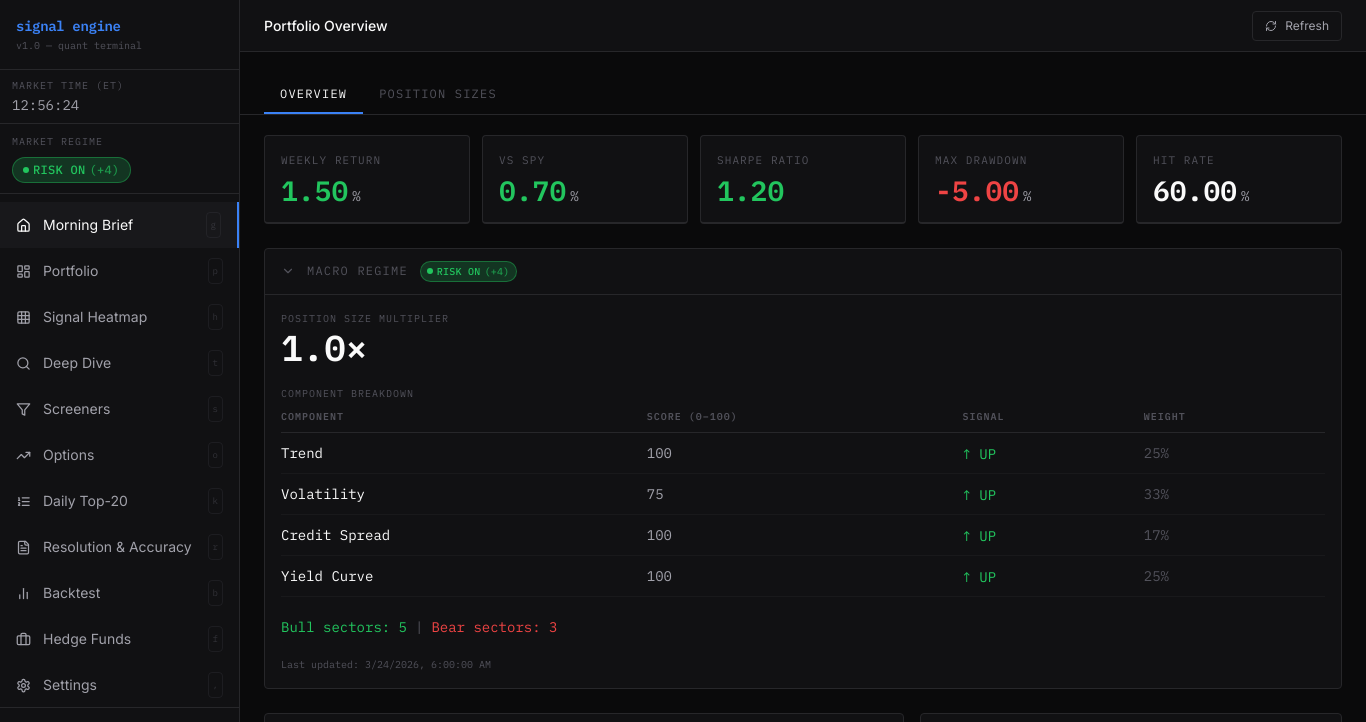
Test: PortfolioPage — Regime Panel › d) Panel collapses and expands on header click
Expected: the element with test id "regime-panel" shows "1.0×", x1=264 y1=248 x2=1342 y2=688
Click the toggle button to collapse
Click the button "Macro Regime RISK ON (+4)" at (357, 270), box x1=265 y1=248 x2=1341 y2=294
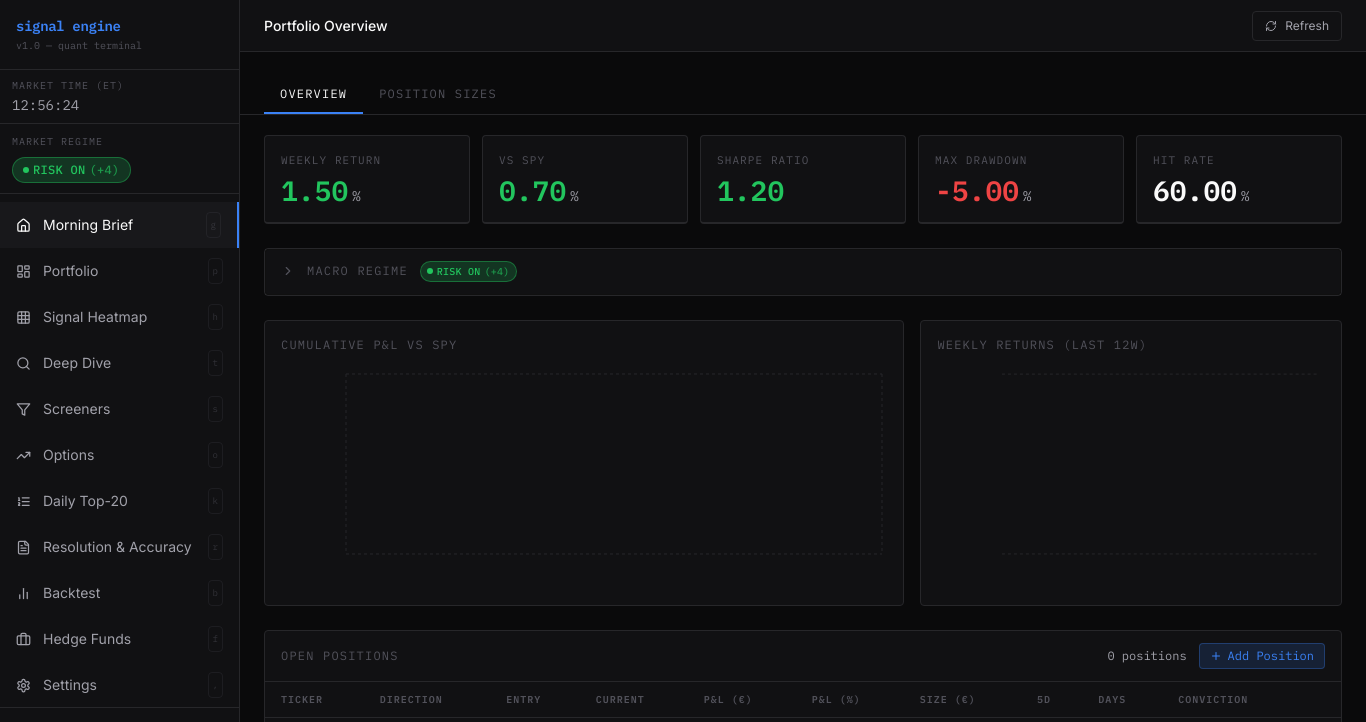
Now the element with test id "regime-panel" no longer shows "1.0×"
Now the element with test id "regime-panel" no longer shows "Trend"
Click again to re-expand
Click the button "Macro Regime RISK ON (+4)" at (357, 270), box x1=265 y1=248 x2=1341 y2=294
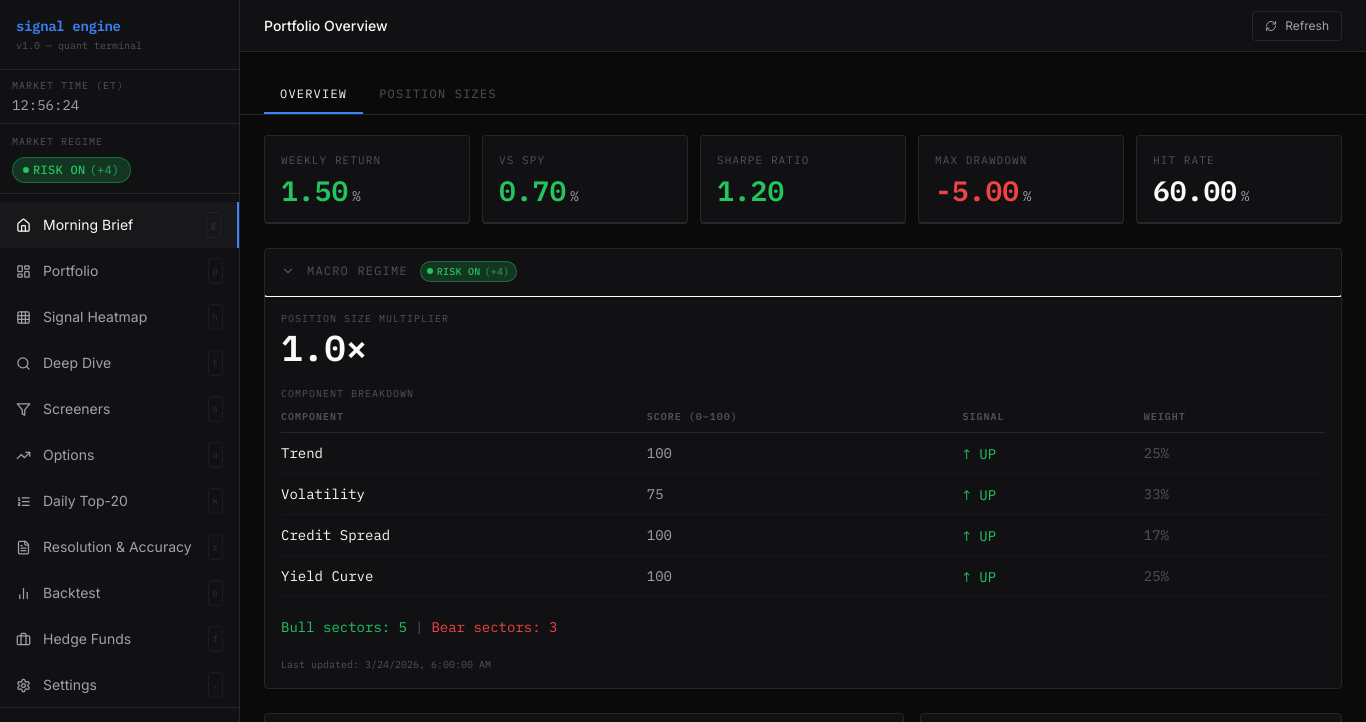
Now the element with test id "regime-panel" shows "1.0×", box x1=264 y1=248 x2=1342 y2=688
Now the element with test id "regime-panel" shows "Trend", box x1=281 y1=444 x2=323 y2=462
